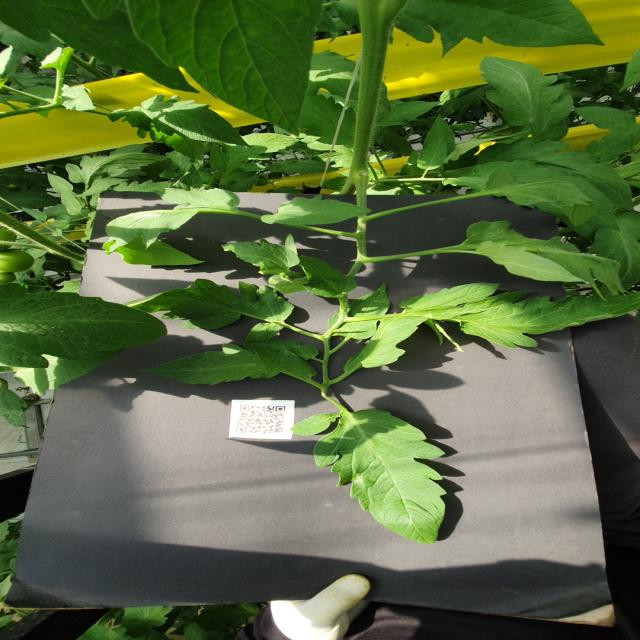Healthy Leaf: (83, 1, 323, 139), (290, 410, 449, 544), (1, 1, 201, 95), (399, 284, 640, 350), (1, 282, 170, 370), (467, 221, 633, 302), (394, 1, 607, 59), (125, 279, 296, 343), (106, 188, 241, 253), (138, 341, 319, 387), (481, 57, 575, 141), (109, 95, 253, 149), (344, 317, 428, 373), (488, 169, 600, 210), (327, 283, 392, 340), (211, 134, 301, 174), (261, 195, 373, 227), (67, 153, 172, 183), (221, 240, 301, 276), (300, 256, 358, 299), (574, 108, 637, 135), (379, 102, 445, 127), (270, 159, 340, 176), (418, 139, 448, 171), (61, 188, 83, 216), (48, 173, 74, 195)
